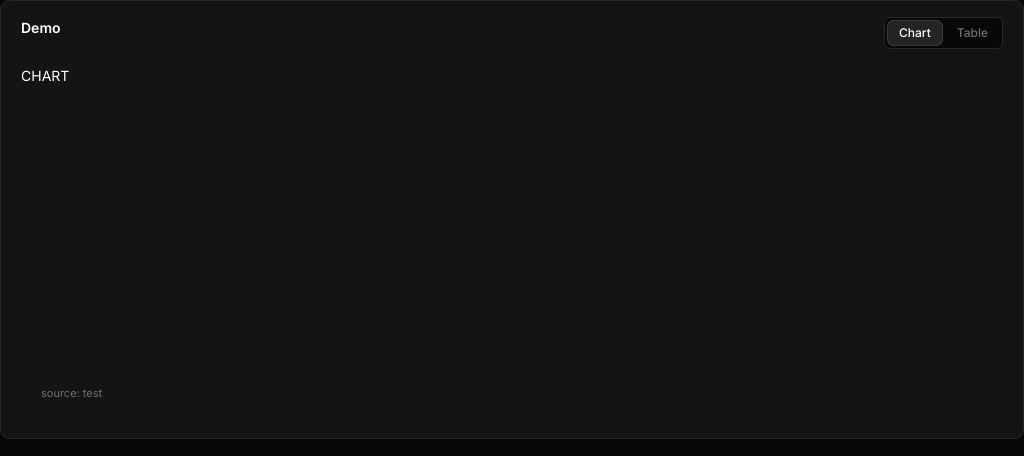
Test: ChartCard › switches between the chart and its table view
Check: the text "CHART" is shown, box left=21, top=67, right=69, bottom=84
Click the radio button labelled "Table" at (972, 33), box left=945, top=20, right=1000, bottom=46
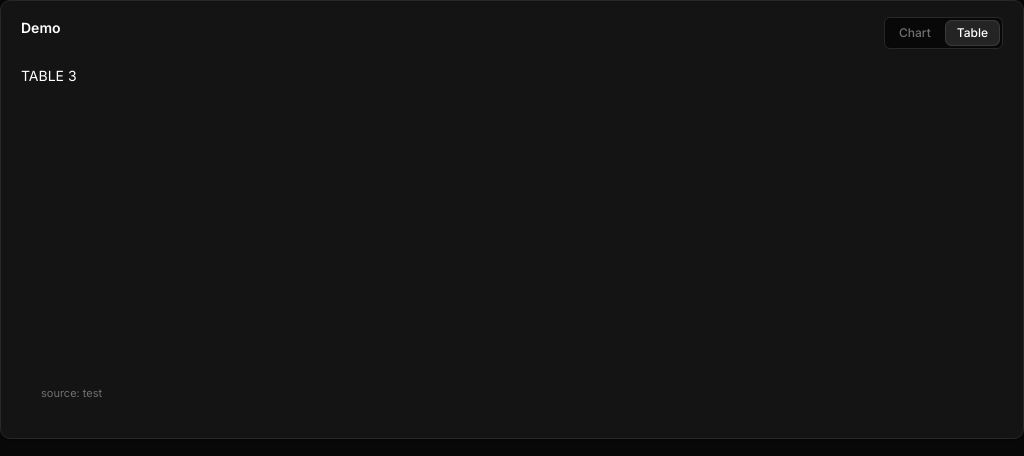
Check: the text "source: test" is shown, box left=41, top=386, right=102, bottom=400
Check: the text "TABLE 3" is shown, box left=21, top=67, right=77, bottom=84
